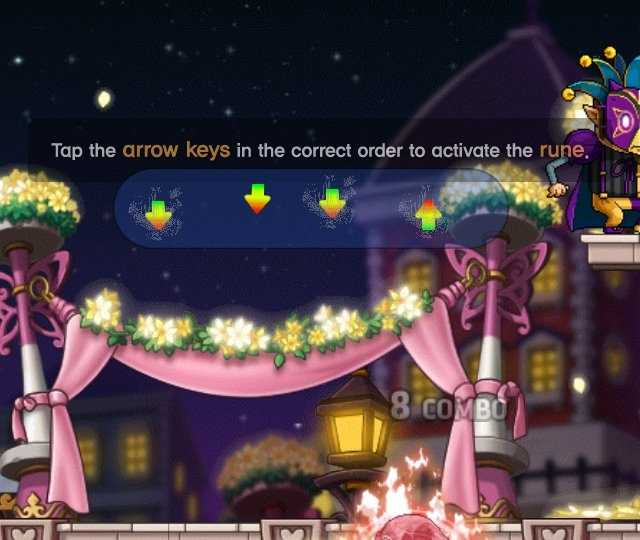down: (239, 178, 280, 226), (138, 196, 177, 234), (314, 182, 350, 223)
up: (409, 192, 444, 235)
